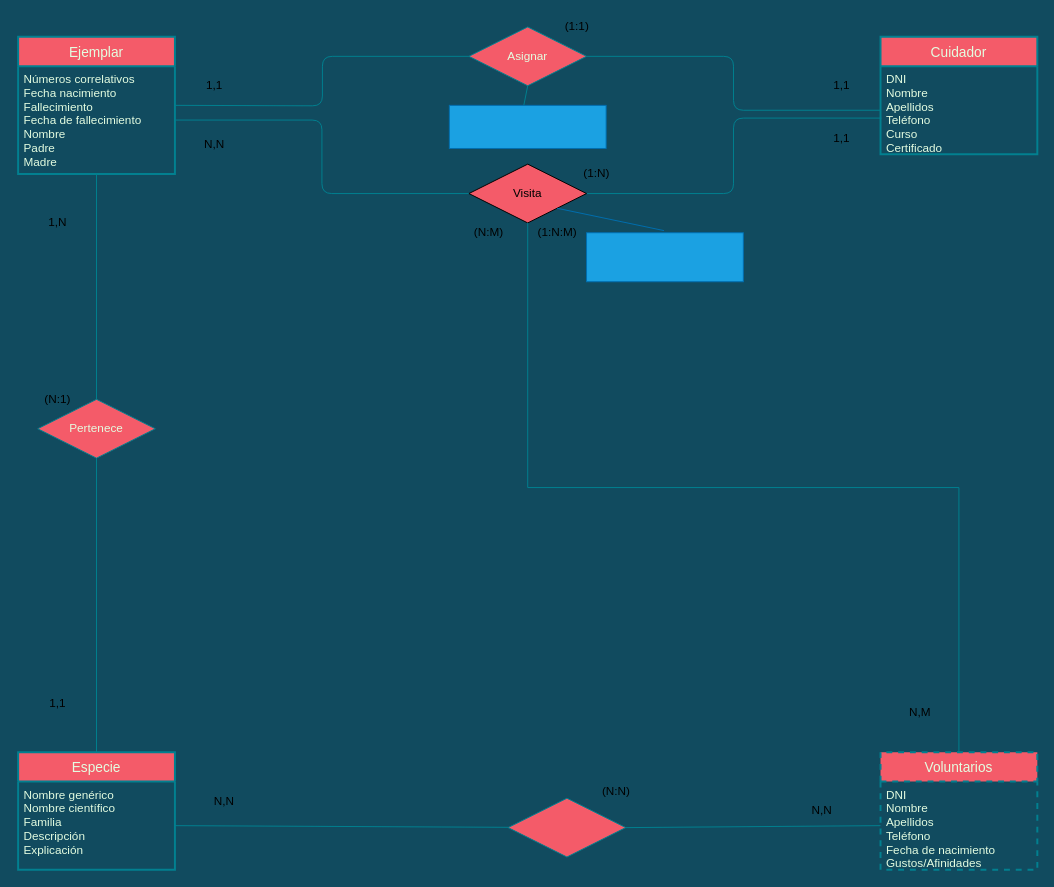
The diagram is 1054 pixels wide and 887 high, and some of its shapes have lost their labels. Here are the shapes that lost their labels. From the top down, the centre of each, then its label:
At pixel 527 126: "Fecha de asignación Posibilidad de encargarse".
At pixel 664 257: "Día Hora Incidencia(s)".
At pixel 566 827: "Cuidar".
